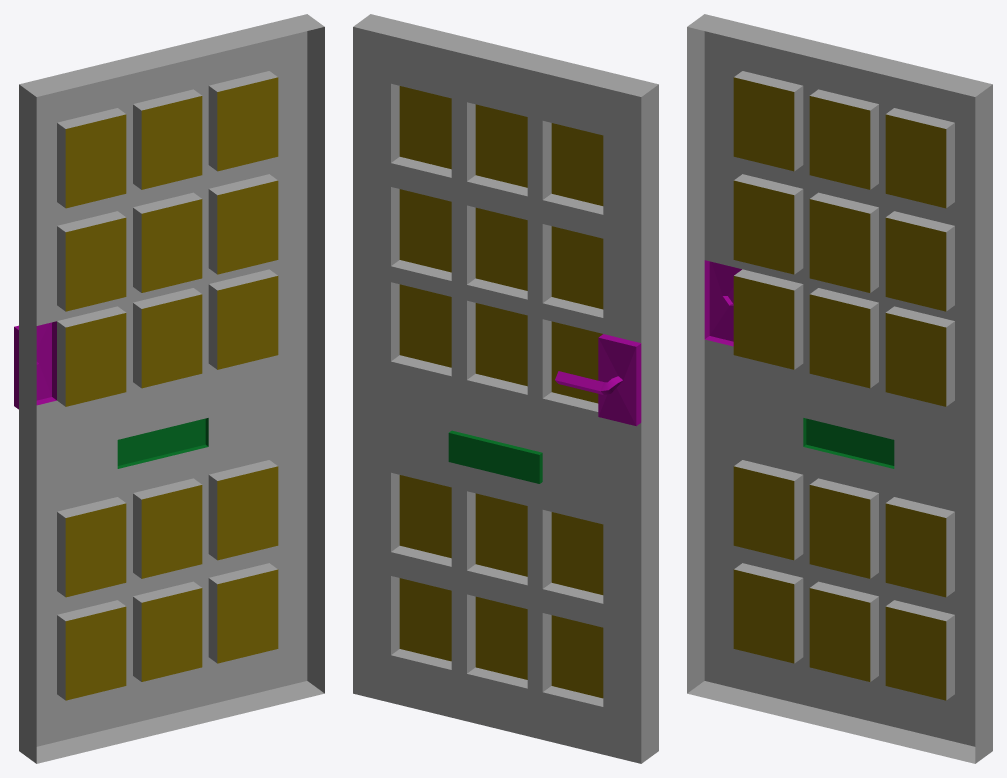
File: Door015_1Sided.fbx
3 views of the same model, side by side, from view 1: azimuth 30°, elevation 25°; view 2: azimuth 150°, elevation 25°; view 3: azimuth 330°, elevation 25° (orthographic).
Parts seen in each view (by area): view 1: pCylinder2; view 2: pCylinder2; view 3: pCylinder2.
Part boxes in pixels (x1,y1,x2,y2): pCylinder2: [14, 14, 324, 763]; pCylinder2: [353, 14, 658, 763]; pCylinder2: [687, 14, 992, 763].
Bounding box in the file's own units: 95 × 210 × 18.24.
